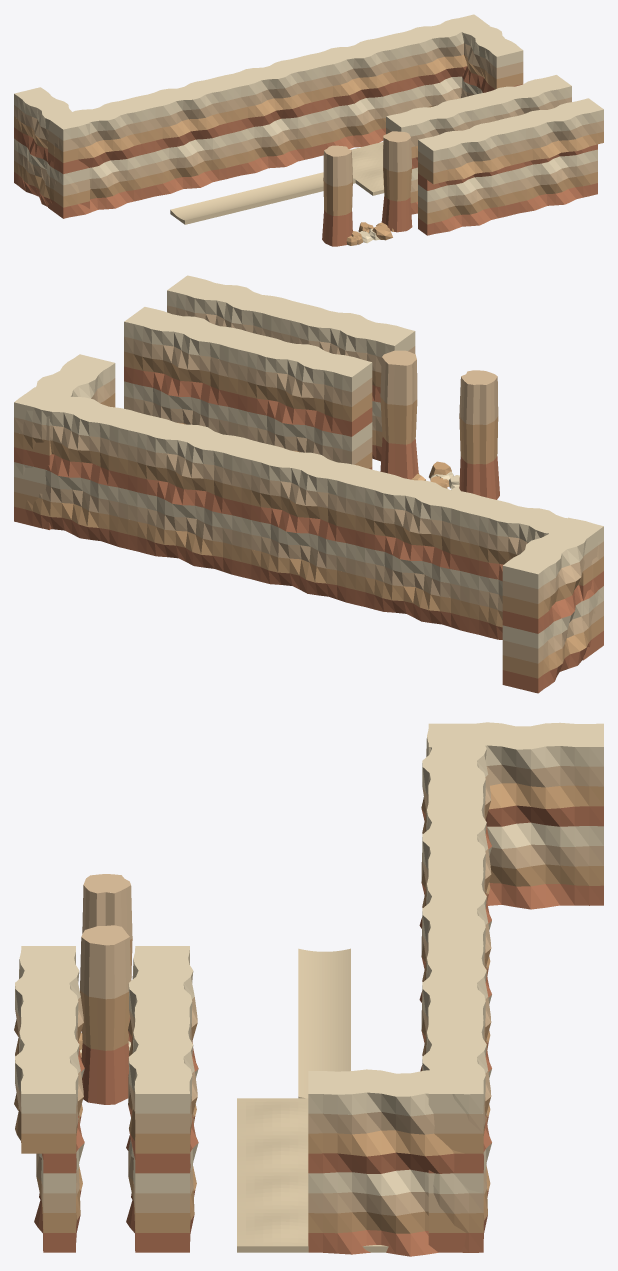
File: desert-canyons-and-oases-canyon-narrows--d32cadc7-starter-scene__21034.glb
The picture shows the model from 3 angles, top to bottom: view 1: azimuth 30°, elevation 25°; view 2: azimuth 150°, elevation 25°; view 3: azimuth 270°, elevation 25°; orthographic projection. The views are drawn at different scales.
Visible parts, largest first — view 1: 008-slot-canyon-wall-pair/15, 008-slot-canyon-wall-pair/7, 003-canyon-wall-outer-corner/7, 002-wide-gallery-wall/7, 009-slot-canyon-wall-pair/7, 009-slot-canyon-wall-pair/15, 000-canyon-wall-straight/7, 002-wide-gallery-wall/15, 001-canyon-wall-inner-corner/7, 001-canyon-wall-inner-corner/15, 007-slot-floor-tile/0, 003-canyon-wall-outer-corner/15 (+67 smaller); view 2: 008-slot-canyon-wall-pair/7, 008-slot-canyon-wall-pair/15, 002-wide-gallery-wall/15, 002-wide-gallery-wall/7, 009-slot-canyon-wall-pair/7, 000-canyon-wall-straight/7, 009-slot-canyon-wall-pair/15, 003-canyon-wall-outer-corner/7, 001-canyon-wall-inner-corner/7, 003-canyon-wall-outer-corner/15, 001-canyon-wall-inner-corner/15, 008-slot-canyon-wall-pair/4 (+59 smaller); view 3: 001-canyon-wall-inner-corner/15, 005-canyon-floor-tile/0, 003-canyon-wall-outer-corner/15, 009-slot-canyon-wall-pair/7, 009-slot-canyon-wall-pair/15, 004-canyon-floor-tile/0, 001-canyon-wall-inner-corner/7, 002-wide-gallery-wall/7, 002-wide-gallery-wall/15, 003-canyon-wall-outer-corner/7, 000-canyon-wall-straight/7, 008-slot-canyon-wall-pair/15 (+42 smaller).
Part boxes in pixels (x1=…): 008-slot-canyon-wall-pair/15: x1=418, y1=119, x2=518, y2=161; 008-slot-canyon-wall-pair/7: x1=386, y1=95, x2=486, y2=136; 003-canyon-wall-outer-corner/7: x1=48, y1=97, x2=148, y2=140; 002-wide-gallery-wall/7: x1=133, y1=77, x2=233, y2=119; 009-slot-canyon-wall-pair/7: x1=471, y1=75, x2=571, y2=117; 009-slot-canyon-wall-pair/15: x1=504, y1=98, x2=603, y2=141; 000-canyon-wall-straight/7: x1=304, y1=35, x2=404, y2=78; 002-wide-gallery-wall/15: x1=218, y1=56, x2=318, y2=98; 001-canyon-wall-inner-corner/7: x1=389, y1=14, x2=489, y2=57; 001-canyon-wall-inner-corner/15: x1=450, y1=14, x2=523, y2=67; 007-slot-floor-tile/0: x1=170, y1=189, x2=270, y2=224; 003-canyon-wall-outer-corner/15: x1=14, y1=87, x2=89, y2=140; 008-slot-canyon-wall-pair/7: x1=238, y1=334, x2=372, y2=391; 008-slot-canyon-wall-pair/15: x1=280, y1=303, x2=415, y2=357; 002-wide-gallery-wall/15: x1=241, y1=443, x2=375, y2=500; 002-wide-gallery-wall/7: x1=355, y1=470, x2=489, y2=528; 009-slot-canyon-wall-pair/7: x1=124, y1=307, x2=258, y2=364; 000-canyon-wall-straight/7: x1=128, y1=415, x2=261, y2=472; 009-slot-canyon-wall-pair/15: x1=167, y1=275, x2=300, y2=332; 003-canyon-wall-outer-corner/7: x1=469, y1=498, x2=603, y2=555; 001-canyon-wall-inner-corner/7: x1=15, y1=387, x2=147, y2=444; 003-canyon-wall-outer-corner/15: x1=502, y1=517, x2=603, y2=588; 001-canyon-wall-inner-corner/15: x1=14, y1=354, x2=115, y2=425; 008-slot-canyon-wall-pair/4: x1=238, y1=394, x2=372, y2=436; 001-canyon-wall-inner-corner/15: x1=308, y1=1069, x2=483, y2=1116; 005-canyon-floor-tile/0: x1=237, y1=1172, x2=388, y2=1252; 003-canyon-wall-outer-corner/15: x1=428, y1=722, x2=603, y2=769; 009-slot-canyon-wall-pair/7: x1=128, y1=1020, x2=194, y2=1113; 009-slot-canyon-wall-pair/15: x1=15, y1=1020, x2=80, y2=1113; 004-canyon-floor-tile/0: x1=237, y1=1098, x2=308, y2=1172; 001-canyon-wall-inner-corner/7: x1=422, y1=1020, x2=488, y2=1113; 002-wide-gallery-wall/7: x1=422, y1=797, x2=488, y2=882; 002-wide-gallery-wall/15: x1=422, y1=871, x2=488, y2=956; 003-canyon-wall-outer-corner/7: x1=422, y1=723, x2=488, y2=808; 000-canyon-wall-straight/7: x1=422, y1=946, x2=488, y2=1030; 008-slot-canyon-wall-pair/15: x1=15, y1=946, x2=80, y2=1031.
Size of the model in its own units: 20.41 by 4 by 13.47.
